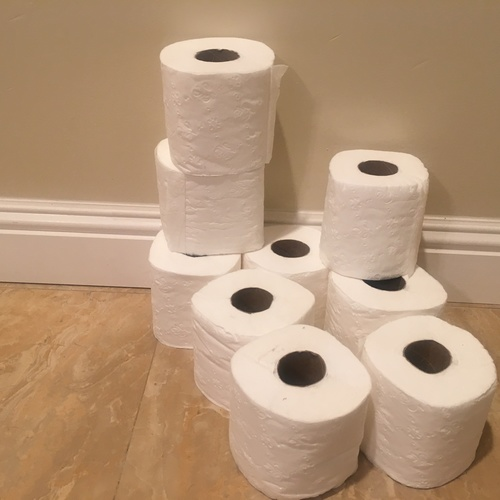roll: (228, 324, 371, 500), (359, 314, 498, 488), (158, 37, 288, 176), (190, 270, 316, 398), (319, 147, 428, 280), (154, 136, 266, 252), (324, 257, 449, 358), (147, 225, 241, 351), (243, 224, 346, 328)
